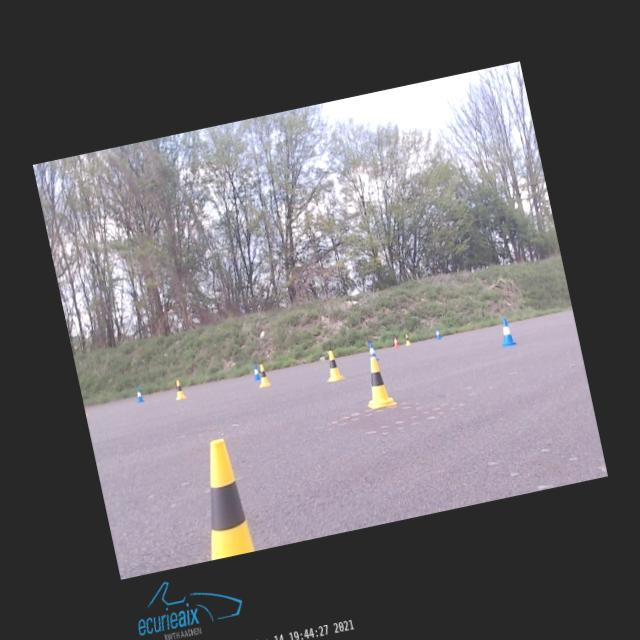blue_cone: (497, 316, 516, 346), (368, 341, 378, 360), (134, 386, 144, 402), (252, 365, 260, 380), (434, 326, 441, 339)
orange_cone: (392, 335, 399, 347)
yellow_cone: (187, 436, 254, 559), (358, 353, 396, 409), (320, 348, 344, 382), (254, 362, 270, 387), (172, 378, 186, 399), (403, 332, 411, 345)
